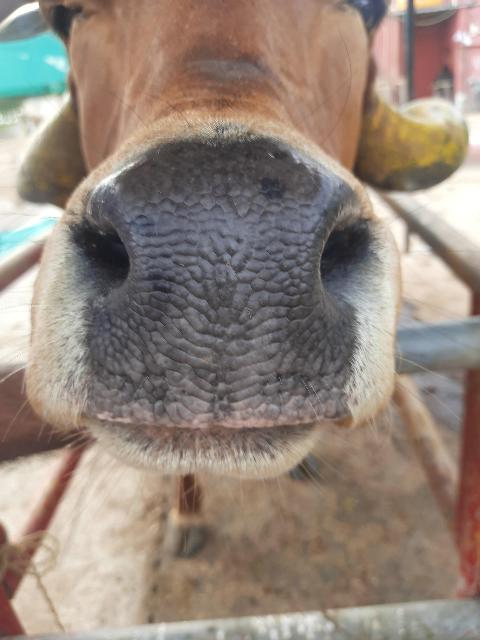Muzzle: (100, 180, 338, 412)
